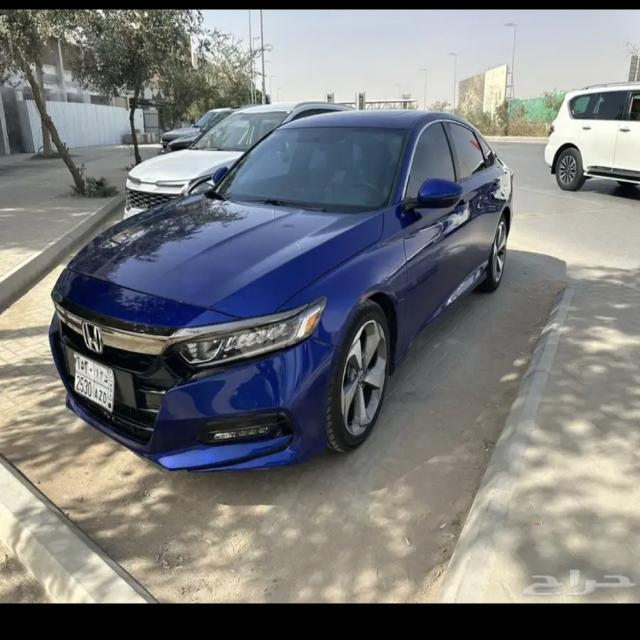license_plate: (73, 352, 115, 413)
